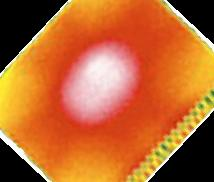componente_T: (9, 1, 206, 182)
